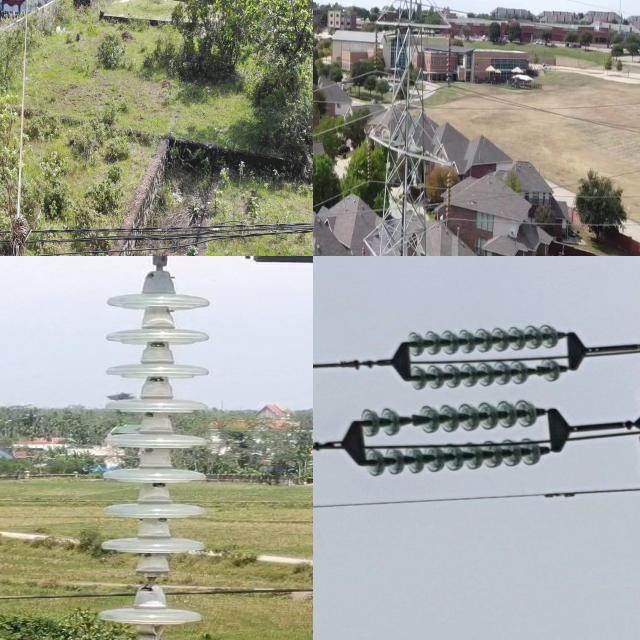杆塔: (76, 256, 313, 640), (514, 304, 640, 640), (365, 0, 442, 256)
正常电缆: (313, 82, 449, 138)
正常绝缘子: (84, 256, 201, 640), (360, 398, 546, 437), (364, 438, 552, 476), (408, 322, 566, 357), (409, 360, 566, 390), (444, 168, 454, 226), (446, 32, 454, 86), (373, 32, 379, 75), (367, 142, 372, 184), (360, 243, 366, 256)
电缆破损: (1, 177, 40, 256)
绝缘子破损: (134, 561, 171, 596), (528, 364, 546, 378), (403, 413, 418, 428)
